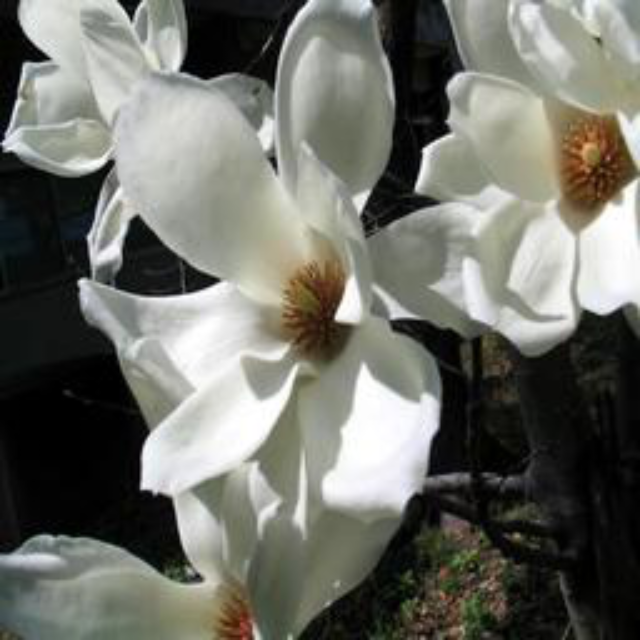magnolia: (78, 1, 506, 625), (1, 339, 306, 639), (415, 2, 639, 359), (5, 1, 193, 190)
